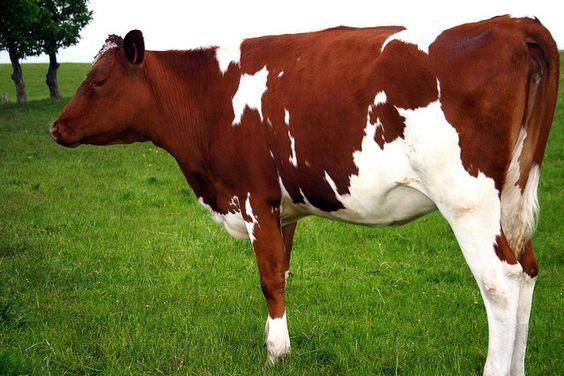cow: (43, 23, 560, 332)
